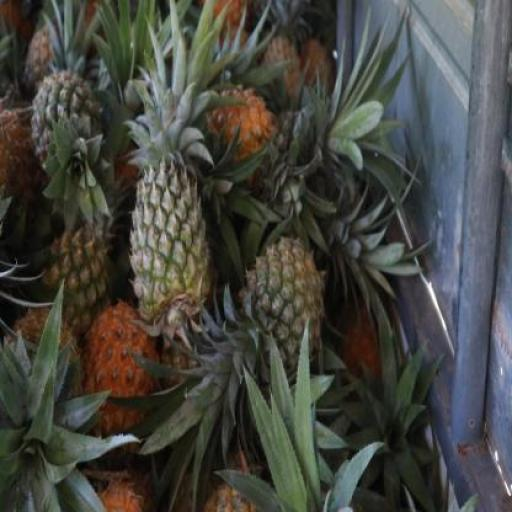Pineapple - v8 v1: (80, 296, 155, 445), (198, 82, 278, 164)
